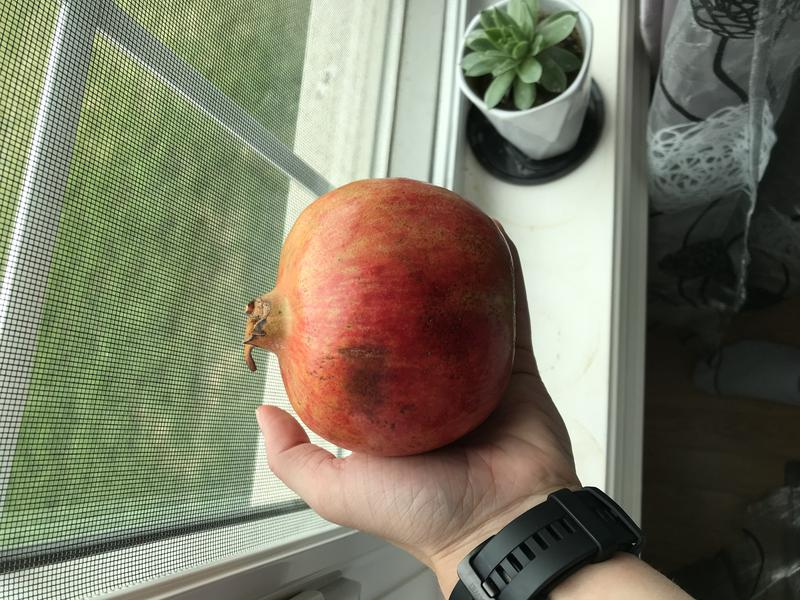pomegranate: (217, 169, 530, 473)
